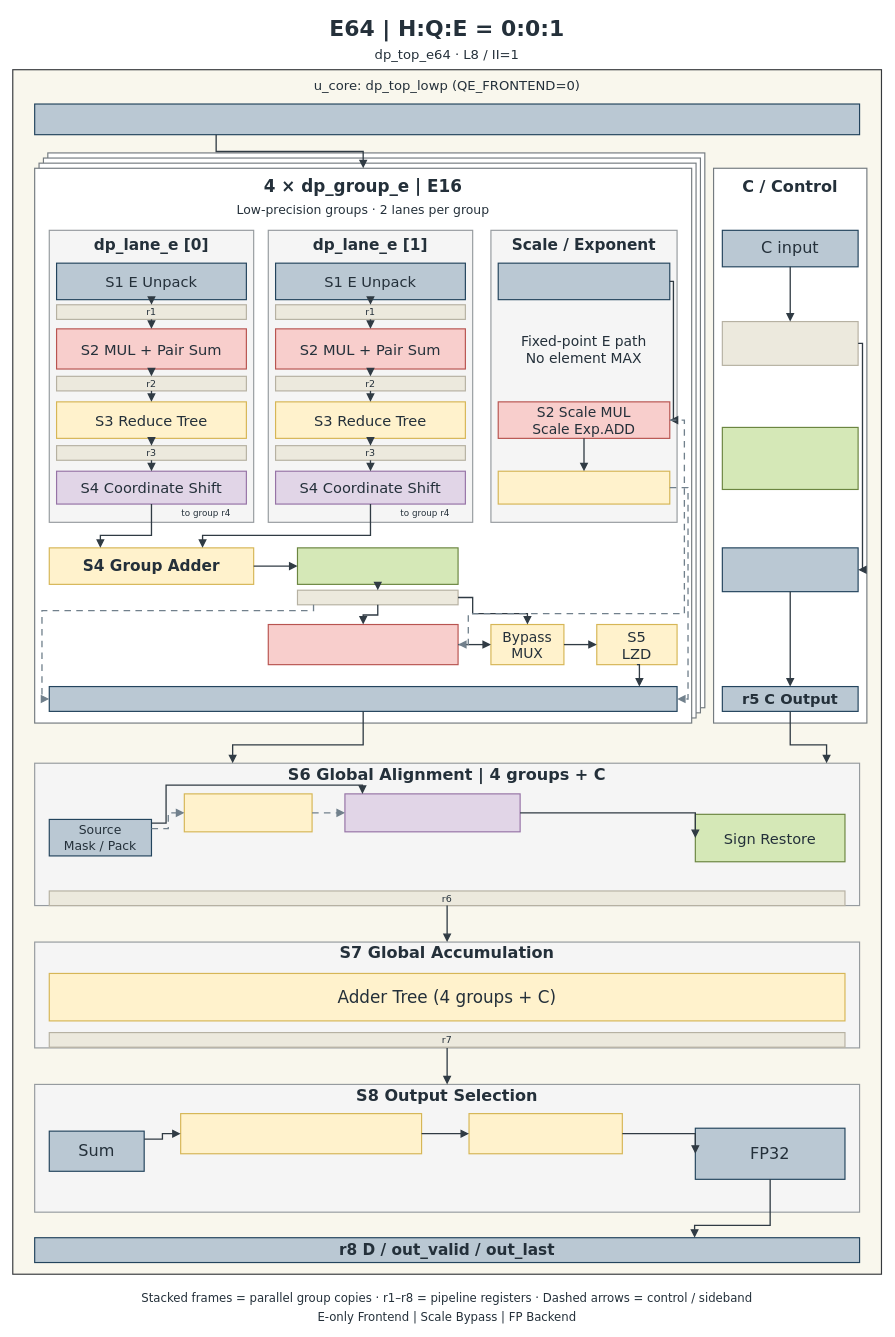
Some shapes in this 895 by 1337 pixel diagram are drawn without their labels. The shapes that lost their labels are listed below. From the top down, each one's centre as x and y in pixels, then its label:
At point 447,119: "A / B · Datatype · Scale · HiF4 metadata".
At point 583,281: "S1 Scale Unpack".
At point 789,343: "S1–S4 C Delay".
At point 789,458: "Valid Enable".
At point 583,487: "S3 Anchor".
At point 377,566: "Abs / Sign Split".
At point 789,569: "S5 C Unpack".
At point 377,597: "r4".
At point 362,644: "S5 Scale MUL NVFP4 / HiF4".
At point 362,699: "r5 Group Output".
At point 247,812: "Group + C MAX".
At point 432,812: "FP Bidirectional Shift".
At point 301,1133: "FP Normalize / Round".
At point 545,1133: "Special MUX".
